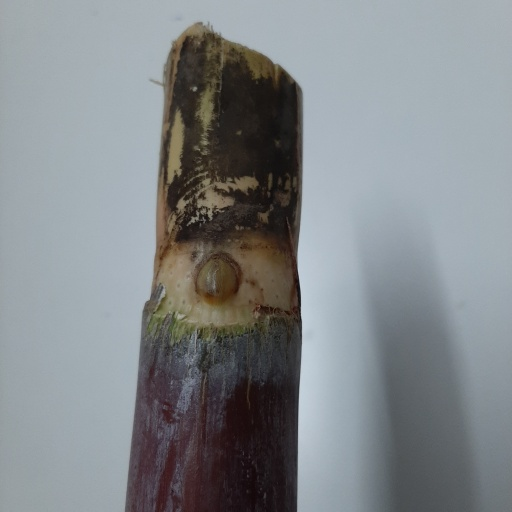Bud: (194, 252, 240, 306)
